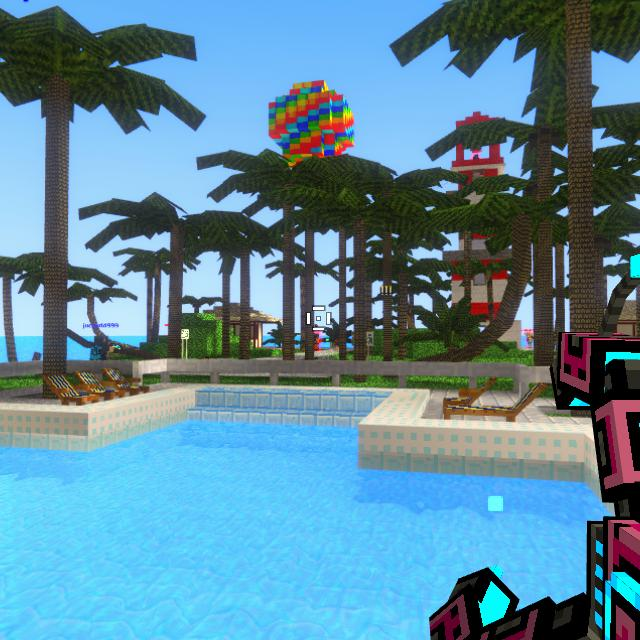Enemy: (313, 334, 322, 354)
